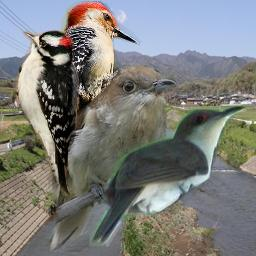Cuckoo: (44, 63, 176, 252), (89, 104, 249, 247)
Woodpecker: (47, 1, 142, 148), (13, 30, 79, 196)
